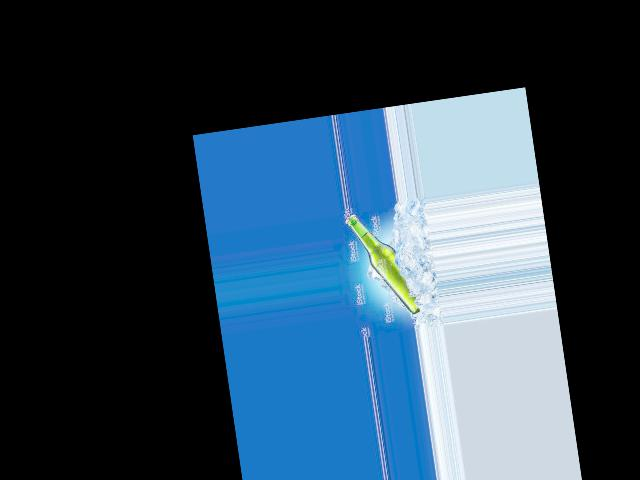beer: (344, 206, 420, 322)
